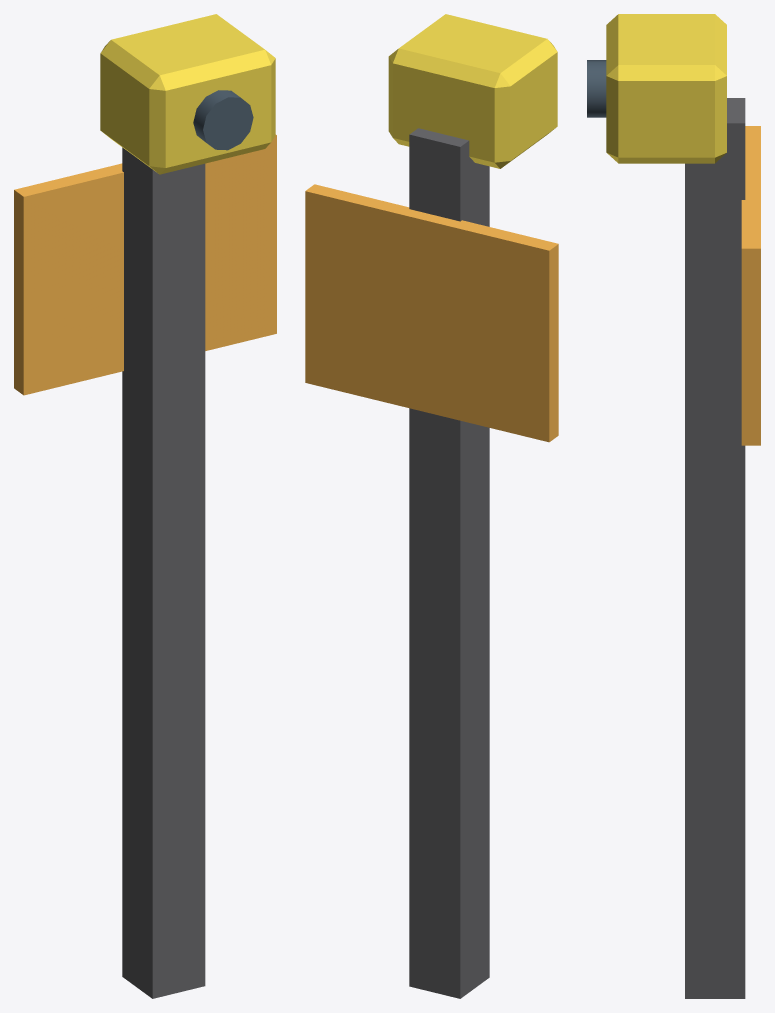
Rendered from speed_camera.glb.
3 views of the same model, side by side, from view 1: azimuth 30°, elevation 25°; view 2: azimuth 150°, elevation 25°; view 3: azimuth 270°, elevation 25° (orthographic). The views are drawn at different scales.
Parts seen in each view (by area): view 1: speed_camera; view 2: speed_camera; view 3: speed_camera.
Part boxes in pixels (x1,y1,x2,y2): speed_camera: [14, 14, 276, 998]; speed_camera: [305, 14, 558, 998]; speed_camera: [587, 14, 760, 998].
Bounding box in the file's own units: 1.2 × 4.32 × 0.72.
